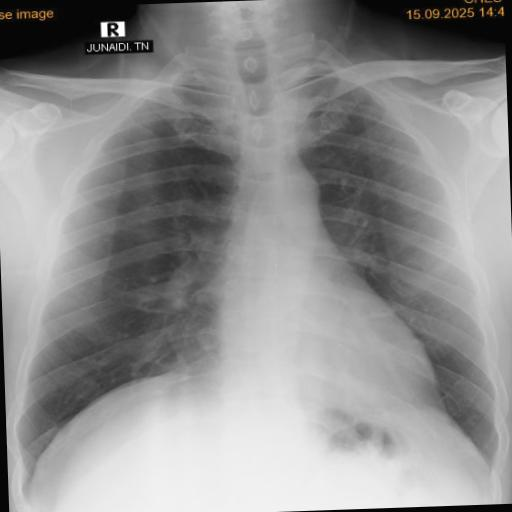kardiomegali: (0, 36, 512, 493)
